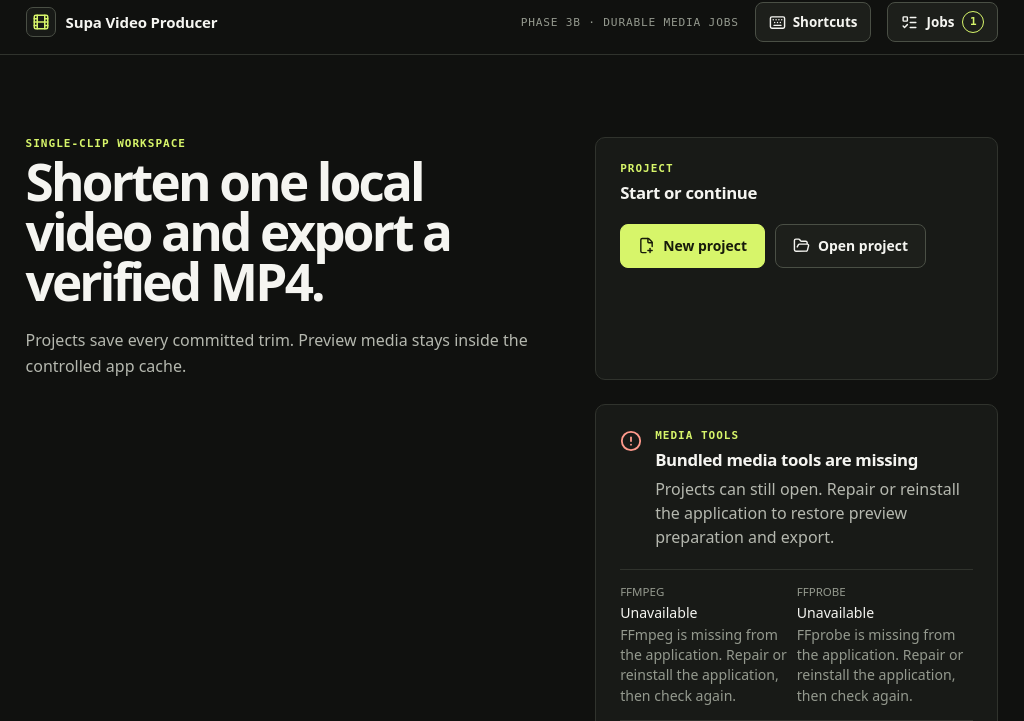
App Phase 3B durable workspace › recovers workspace media actions after repair and a repeated tool check
This screenshot has width=1024, height=721.
Check: the heading "Bundled media tools are missing" is shown, box left=655, top=448, right=918, bottom=471
Step 1. Click the button "New project" → coordinates (693, 246), box left=620, top=224, right=765, bottom=268
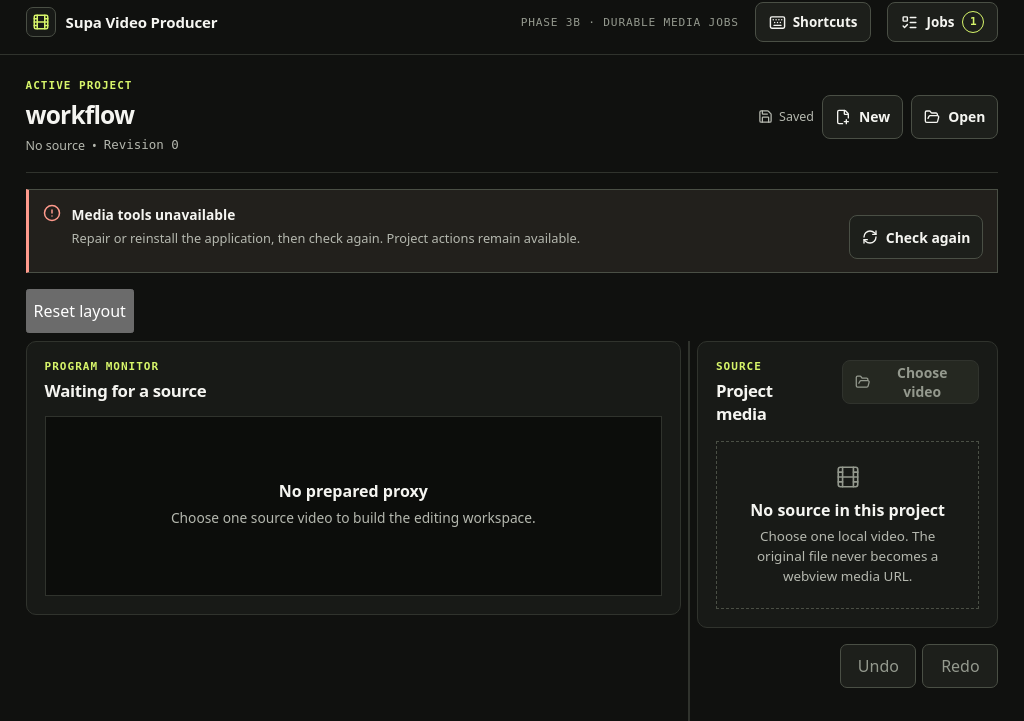
Check: the text "Media tools unavailable" is shown, box left=72, top=205, right=235, bottom=224
Check: the button "Choose video" is disabled, box left=842, top=360, right=979, bottom=404
Step 2. Click the button "Check again" → coordinates (916, 237), box left=849, top=215, right=983, bottom=259
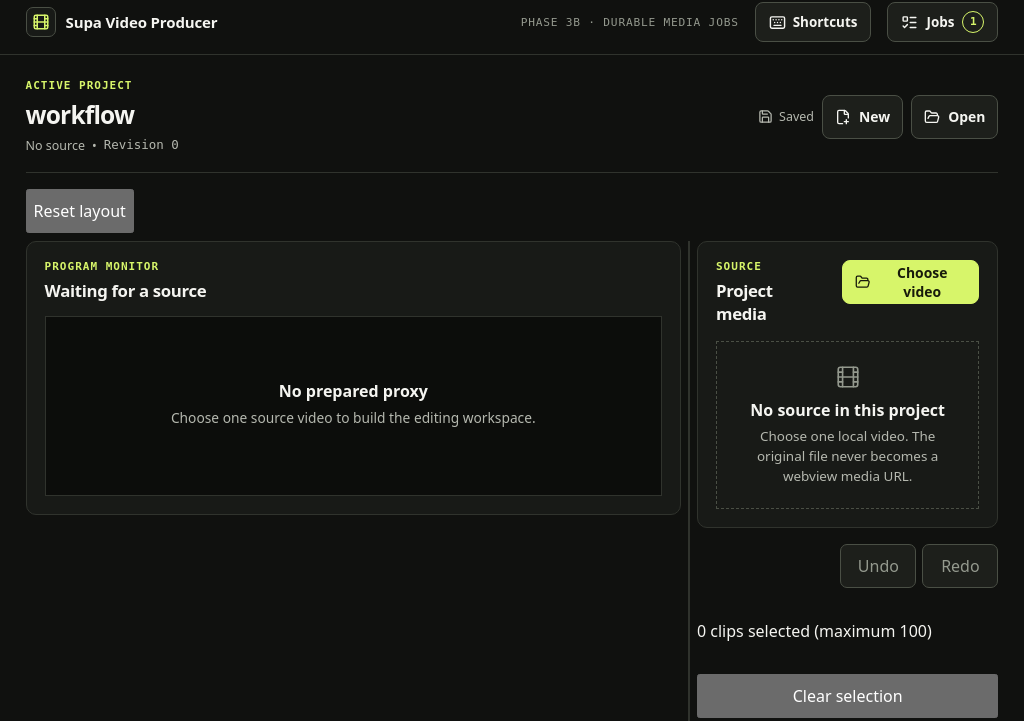
Check: the button "Choose video" is enabled
Check: the text "Media tools unavailable" is gone
Step 3. Click the button "Choose video" → coordinates (910, 282), box left=842, top=260, right=979, bottom=304
(page scrolled)
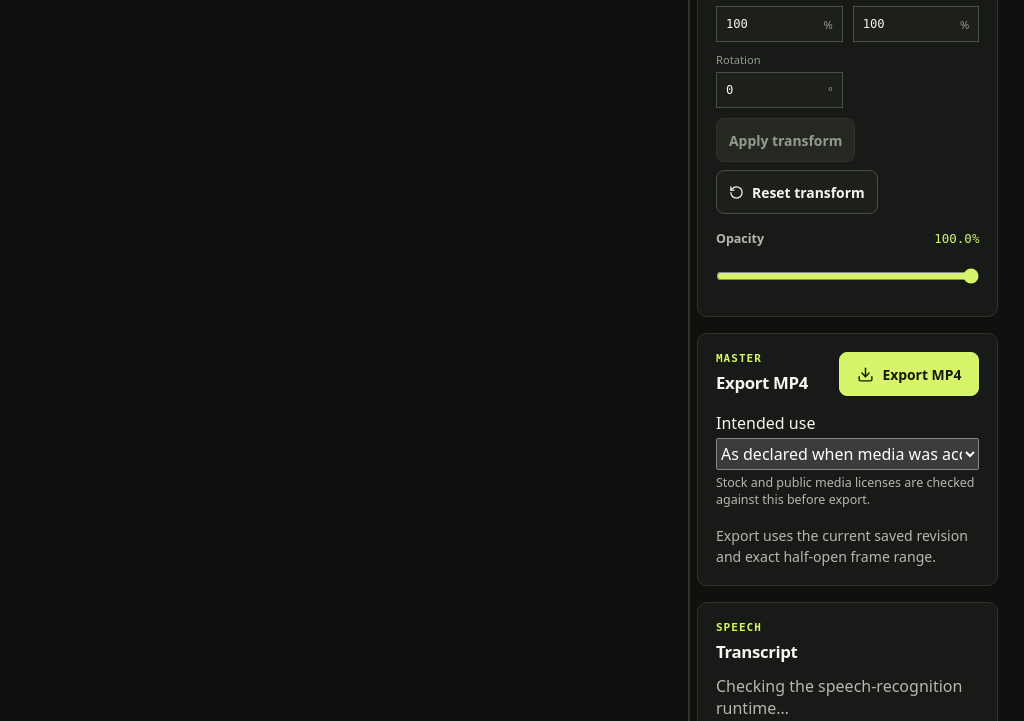
Check: the button "Export MP4" is enabled, box left=839, top=352, right=979, bottom=396
